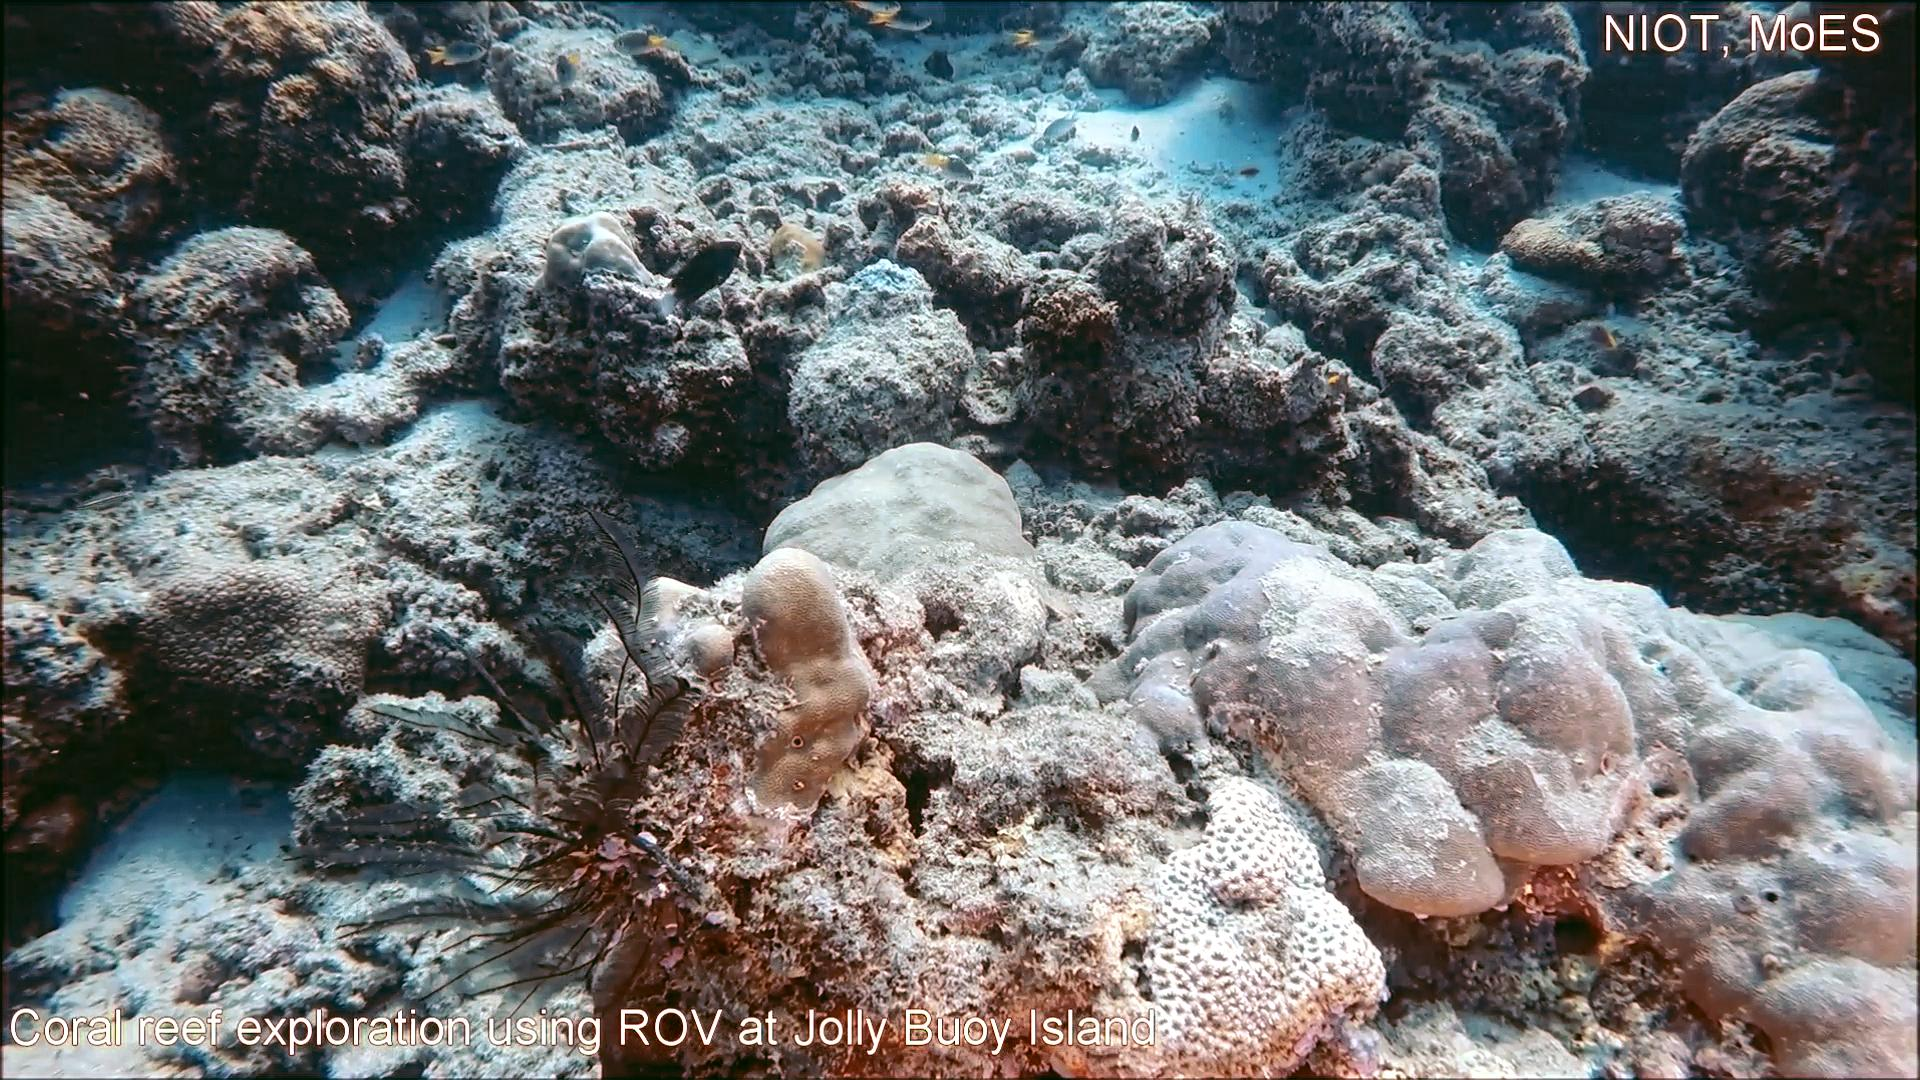Feather star-Crinoid star: (270, 496, 770, 1080), (131, 549, 398, 748)
Goniastrea-Goniastrea pectinata: (1135, 764, 1394, 1080)
Porites-Porites pukoensis: (1495, 521, 1920, 1080)
